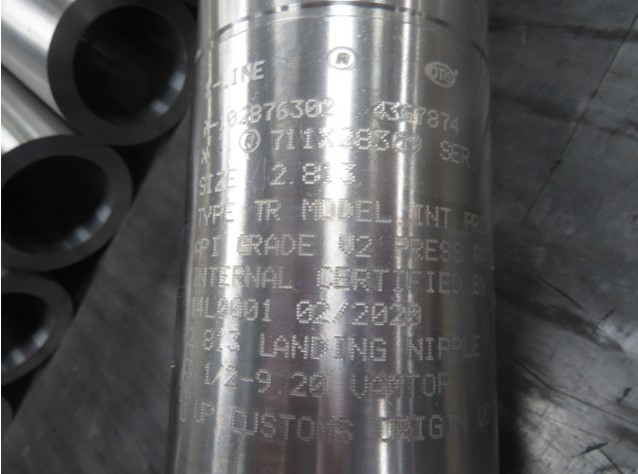character: (314, 413, 337, 449), (348, 369, 371, 404), (257, 407, 279, 443), (334, 415, 356, 449), (295, 411, 317, 444), (307, 332, 330, 363), (346, 336, 369, 367), (369, 334, 389, 369), (312, 263, 334, 292), (308, 370, 329, 400), (289, 331, 309, 362), (289, 368, 309, 399), (268, 161, 289, 190), (350, 299, 369, 331), (367, 372, 386, 404), (405, 128, 424, 159), (332, 262, 351, 293), (402, 370, 421, 401), (277, 412, 296, 443), (394, 415, 413, 446), (299, 198, 319, 227), (376, 414, 394, 446), (350, 265, 372, 291), (301, 161, 320, 191), (373, 264, 392, 294), (279, 229, 296, 262), (335, 197, 355, 225), (353, 197, 373, 225), (312, 299, 332, 327), (405, 335, 425, 363), (295, 297, 313, 328), (274, 263, 292, 293), (254, 332, 274, 359), (264, 230, 280, 263), (376, 197, 394, 226), (273, 332, 291, 361), (241, 412, 260, 439), (332, 299, 349, 329), (371, 301, 388, 331), (255, 368, 273, 396), (355, 234, 374, 260), (405, 302, 424, 328), (338, 232, 356, 259), (243, 295, 261, 322), (392, 233, 408, 263), (425, 200, 441, 230), (408, 235, 424, 265), (391, 302, 407, 332), (411, 412, 426, 444), (429, 411, 444, 443), (319, 196, 336, 224), (245, 262, 262, 290), (331, 331, 345, 365), (233, 233, 252, 258), (340, 160, 357, 187), (225, 328, 243, 353), (297, 231, 313, 259), (423, 370, 437, 402), (266, 197, 283, 223), (392, 129, 408, 156), (424, 237, 440, 264), (406, 269, 421, 297), (260, 297, 274, 327), (374, 127, 390, 153), (230, 408, 244, 437), (248, 232, 263, 259), (263, 266, 278, 293), (384, 98, 399, 124), (355, 128, 371, 152), (441, 203, 454, 232), (226, 362, 239, 391), (217, 263, 231, 289), (390, 267, 403, 294), (285, 126, 297, 155), (425, 268, 436, 299), (253, 199, 267, 223), (373, 98, 386, 123), (231, 263, 244, 288), (229, 296, 242, 321), (412, 203, 424, 229), (302, 127, 313, 155), (272, 128, 283, 151)
